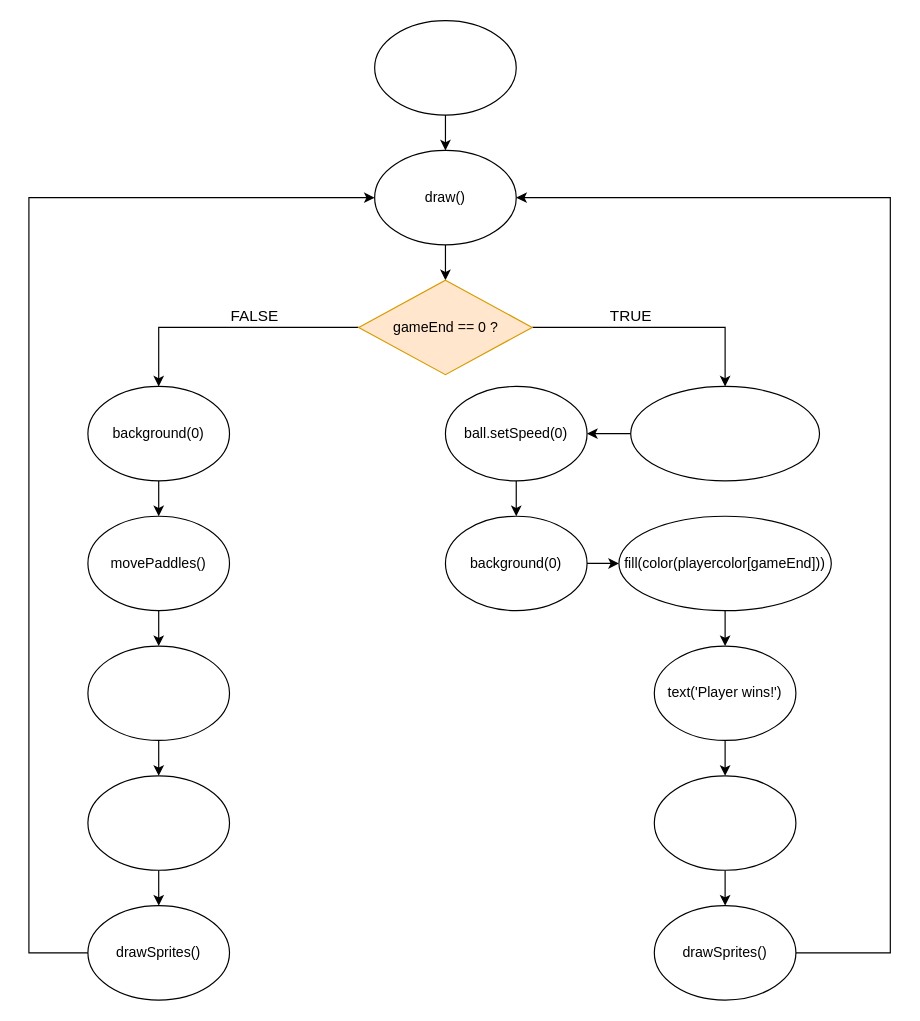
This 920x1021 diagram has some shape labels left out. The centre of each missing label's shape, as x and y in pixels:
checkOnRocket(): the point at 158,822
clearTimeout(id_of_timeout): the point at 725,433
moveBall(): the point at 158,692
rain(): the point at 724,822
setup(): the point at 444,67
